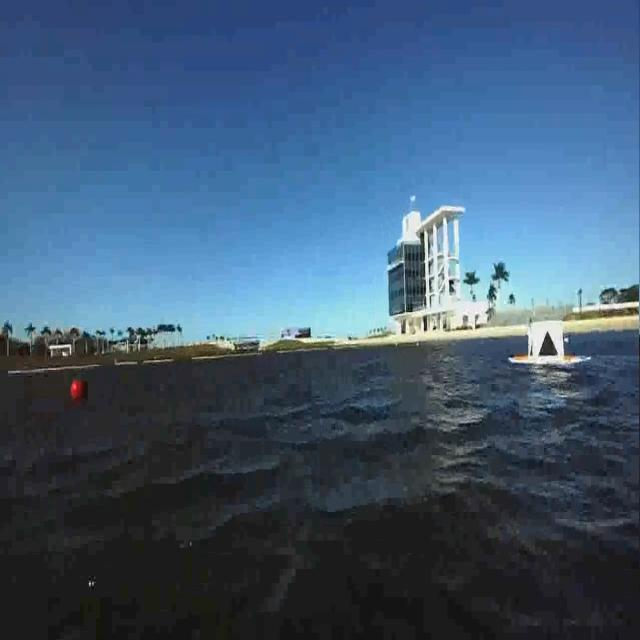red-buoy: (71, 382, 83, 396)
